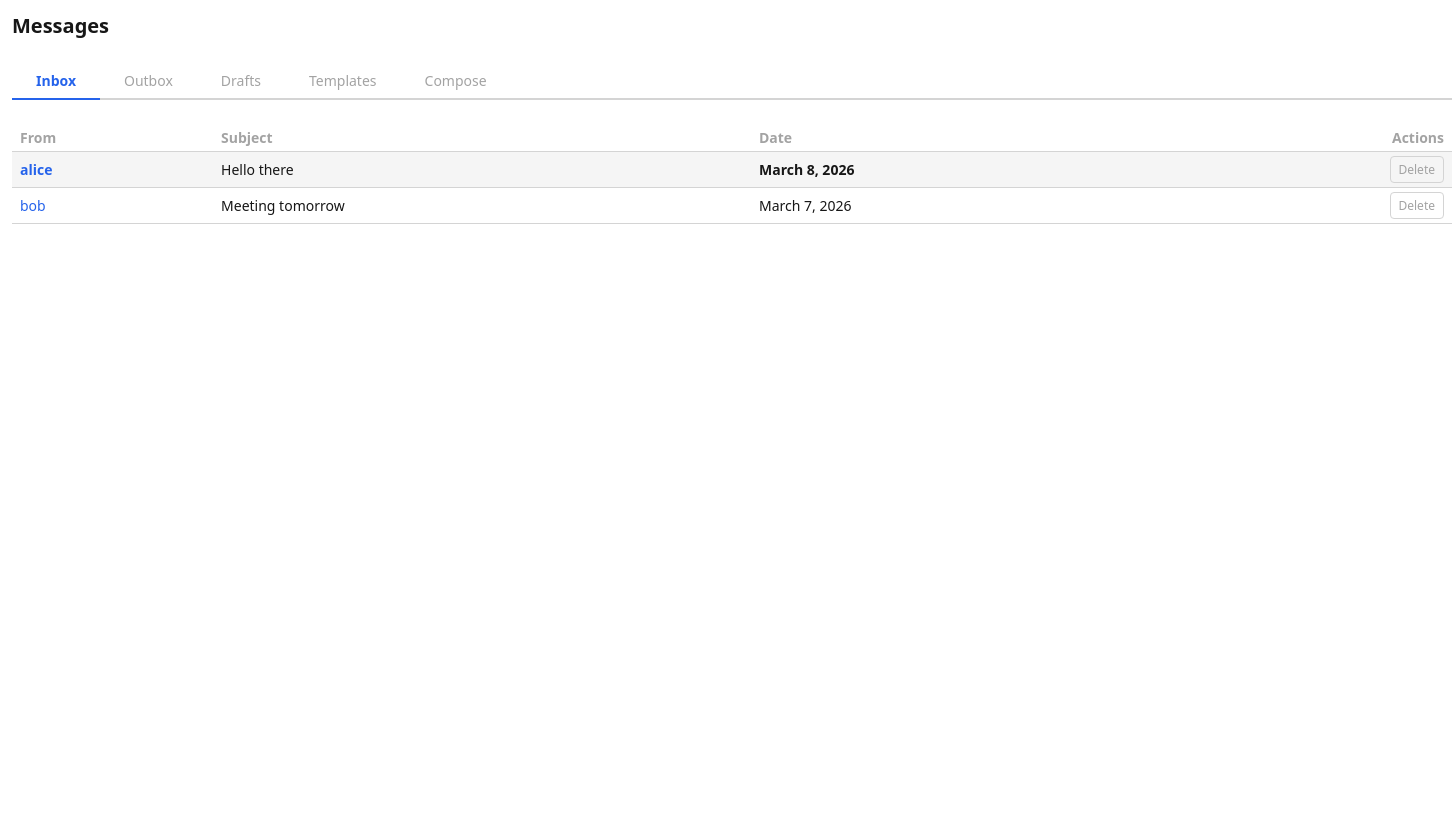
Test: MessagesPage drafts & templates (BE-7.2) › loading a draft populates the compose form and switches tabs
Click the button "Drafts" at (241, 82), box [197,63,285,100]
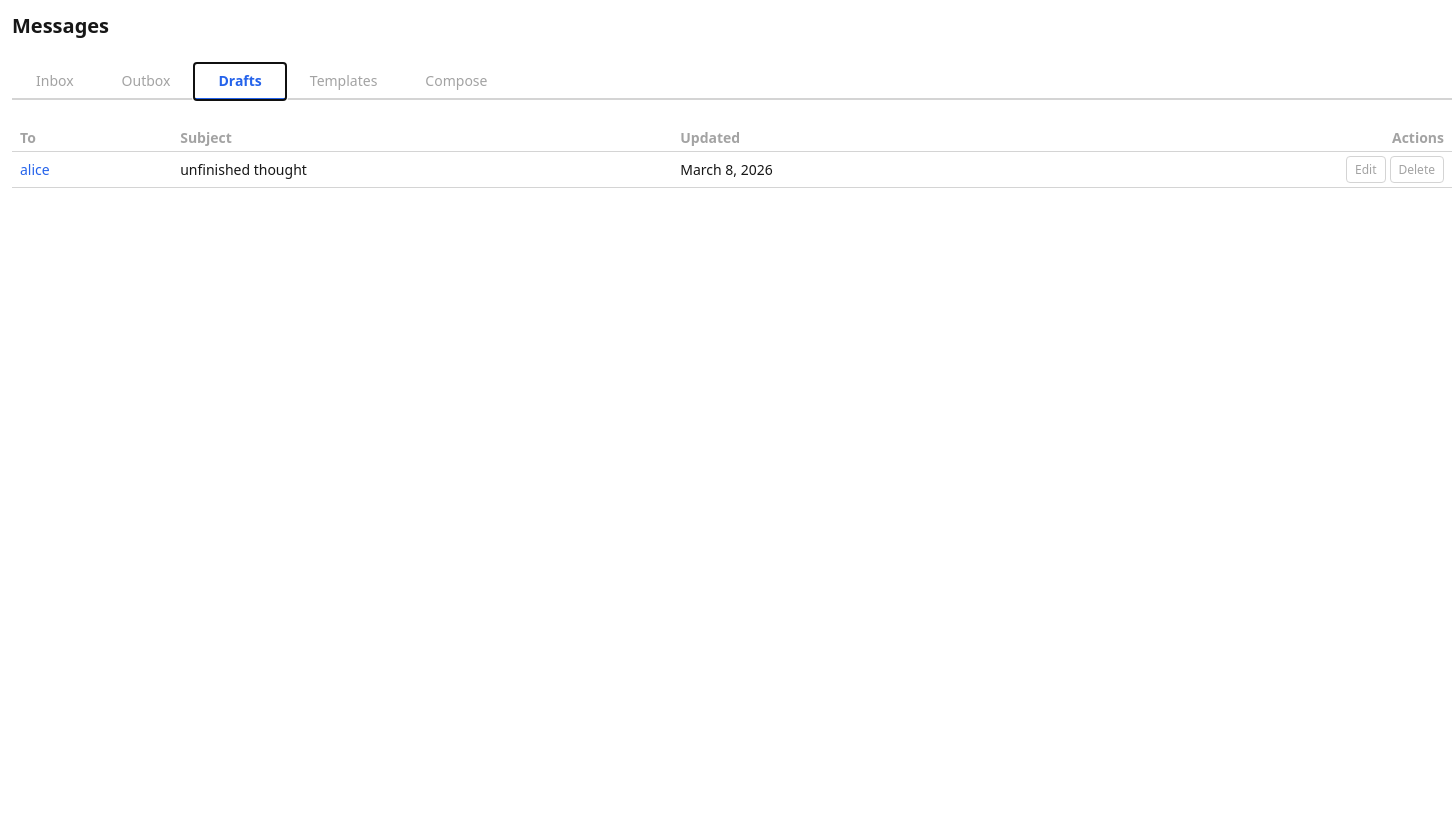
Now the button "unfinished thought" is shown
Click the button "unfinished thought" at (244, 170), box [180,160,307,179]
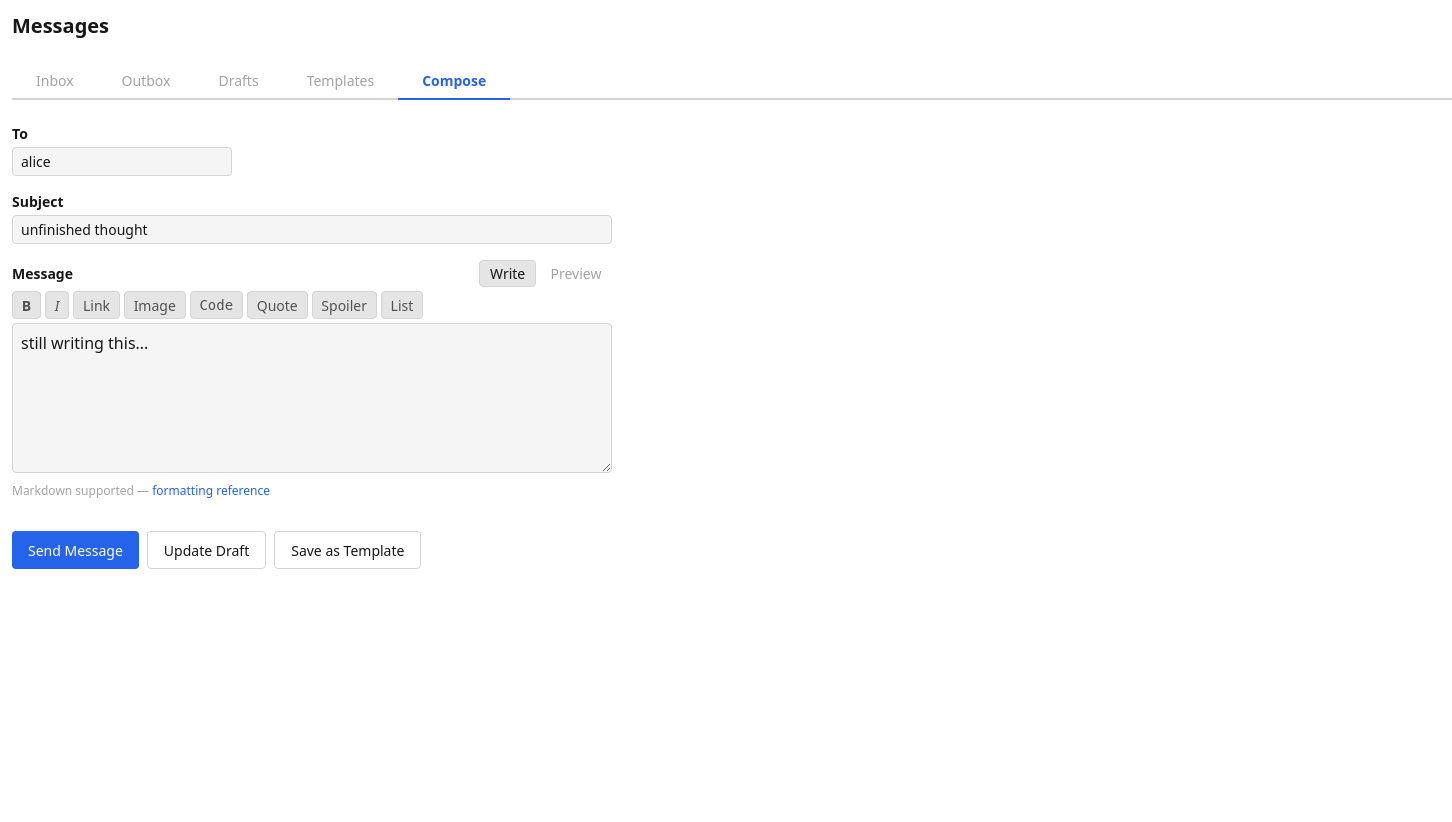
Now the field labelled "To" holds "alice", box [12,147,232,176]
Now the field labelled "Subject" holds "unfinished thought", box [12,215,612,244]
Now the button "Update Draft" is shown, box [147,531,266,569]
